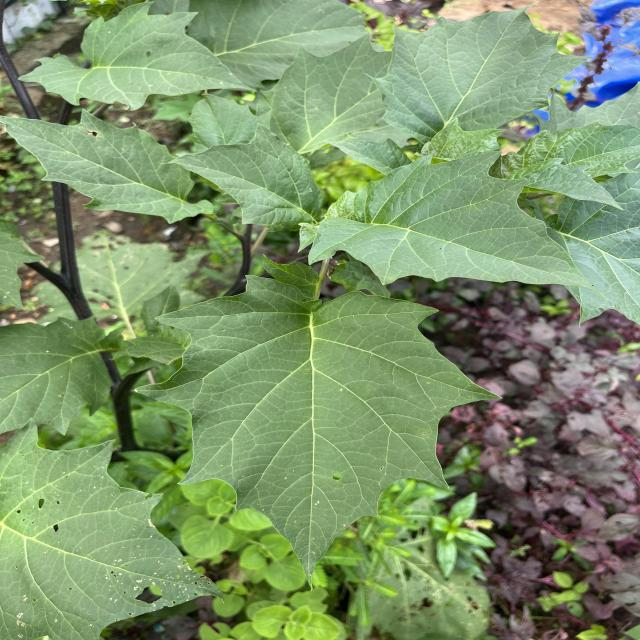Datura metal linn: (124, 269, 509, 595), (304, 144, 608, 298), (361, 0, 598, 134), (15, 0, 261, 115), (1, 104, 217, 229), (154, 119, 322, 233)
